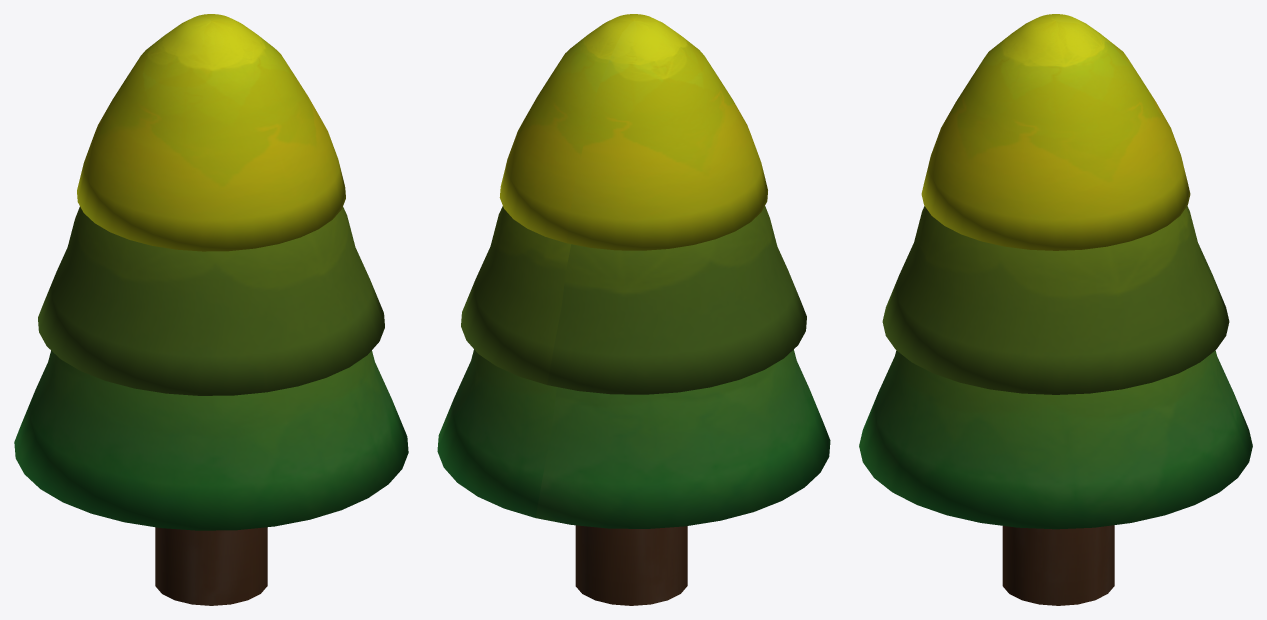
The model's file is tree2.FBX.
3 views of the same model, side by side, from view 1: azimuth 30°, elevation 25°; view 2: azimuth 150°, elevation 25°; view 3: azimuth 270°, elevation 25° (orthographic).
Visible parts, largest first — view 1: Sphere001, Sphere003, Sphere002, Cylinder001; view 2: Sphere001, Sphere003, Sphere002, Cylinder001; view 3: Sphere001, Sphere003, Sphere002, Cylinder001.
Part boxes in pixels (x1,y1,x2,y2): Sphere001: (14, 350, 408, 530); Sphere003: (38, 206, 384, 395); Sphere002: (77, 14, 345, 251); Cylinder001: (155, 527, 267, 605); Sphere001: (437, 349, 830, 528); Sphere003: (461, 206, 806, 394); Sphere002: (499, 14, 767, 250); Cylinder001: (575, 525, 687, 605); Sphere001: (859, 350, 1252, 529); Sphere003: (882, 206, 1229, 394); Sphere002: (921, 14, 1190, 250); Cylinder001: (1002, 525, 1114, 605).
Size of the model in its own units: 15.24 by 23.92 by 15.24.
1 material, 1 textured.
